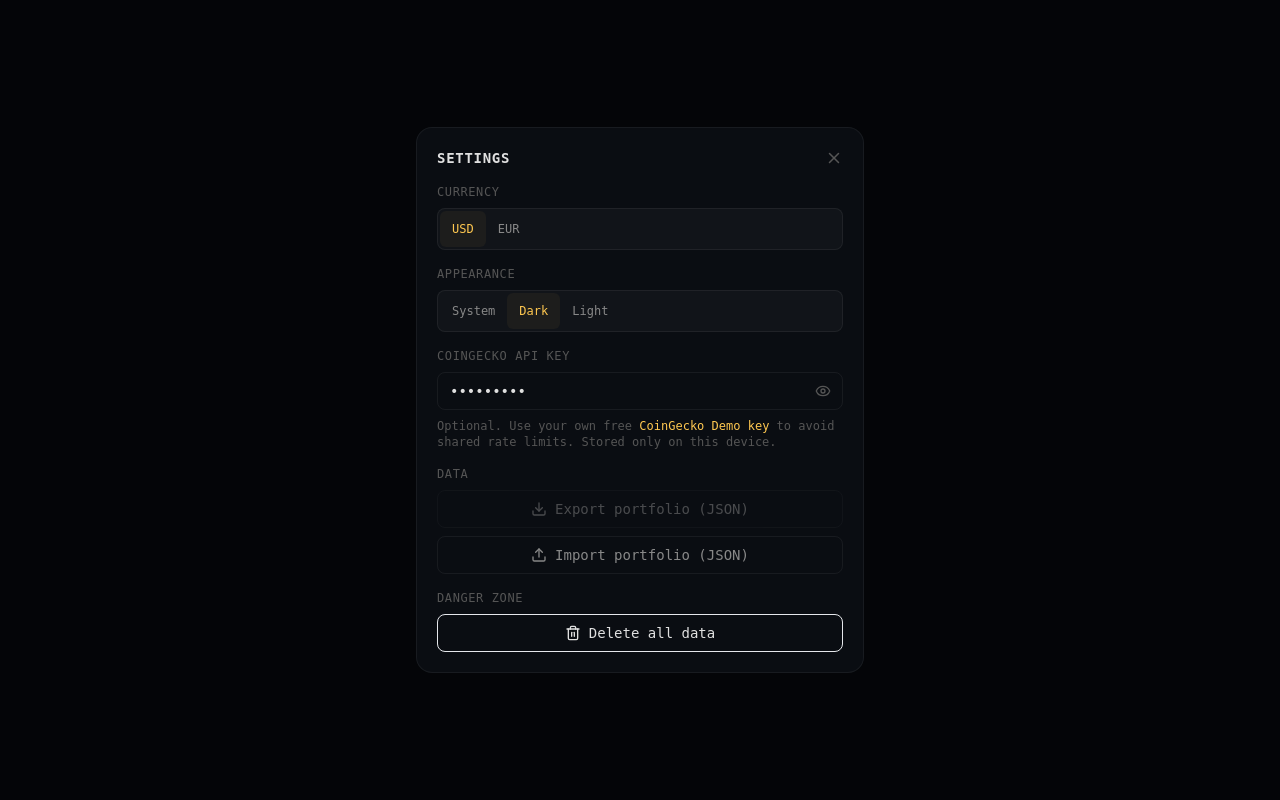
Test case: SettingsModal — API key › masks the key by default and reveals it on toggle
Click the button named "show api key" at (823, 391), box [803,372,843,410]
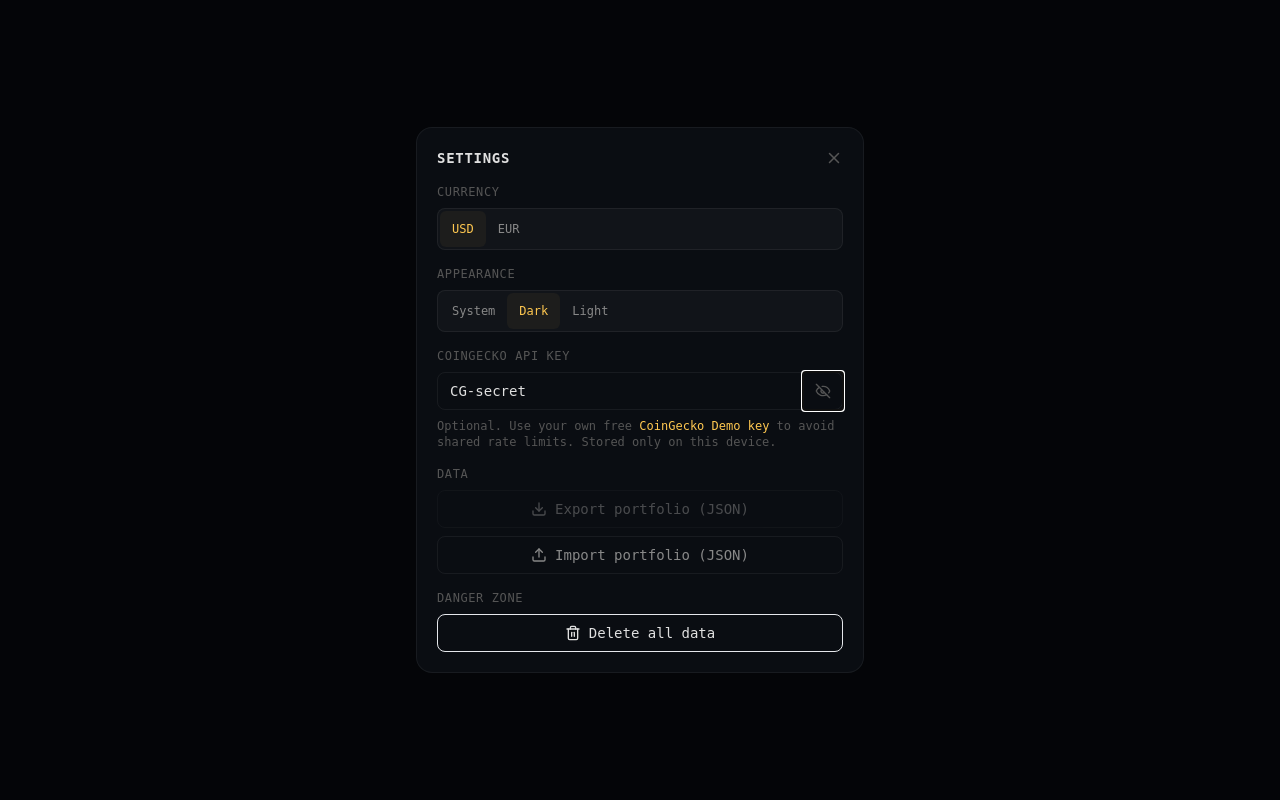
Expected: the field labelled "CoinGecko API key" shows its text, [437,372,843,410]
